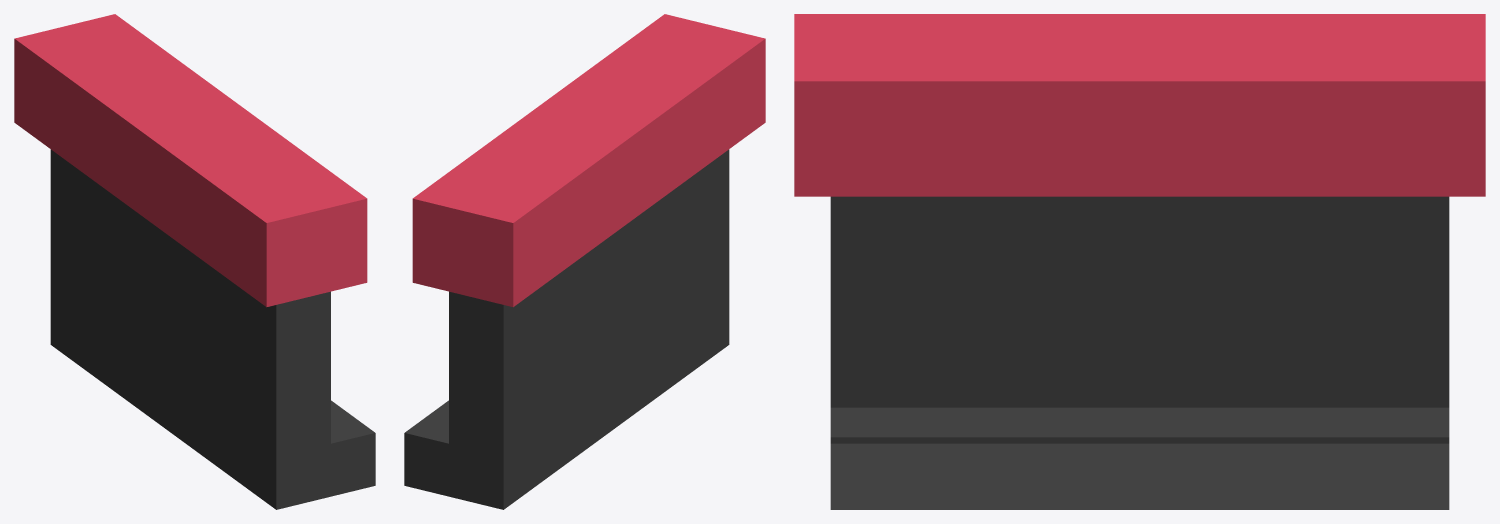
Rendered from Itr_Officechair_Side_Left_01.FBX.
3 views of the same model, side by side, from view 1: azimuth 30°, elevation 25°; view 2: azimuth 150°, elevation 25°; view 3: azimuth 270°, elevation 25° (orthographic). The views are drawn at different scales.
Parts seen in each view (by area): view 1: Itr_Officechair_Side_Left_01; view 2: Itr_Officechair_Side_Left_01; view 3: Itr_Officechair_Side_Left_01.
Boxes of the visible parts, <box> form: Itr_Officechair_Side_Left_01: <box>14,14,375,509</box>; Itr_Officechair_Side_Left_01: <box>404,14,765,509</box>; Itr_Officechair_Side_Left_01: <box>794,14,1485,509</box>.
Bounding box in the file's own units: 5.8 × 13.72 × 20.76.
